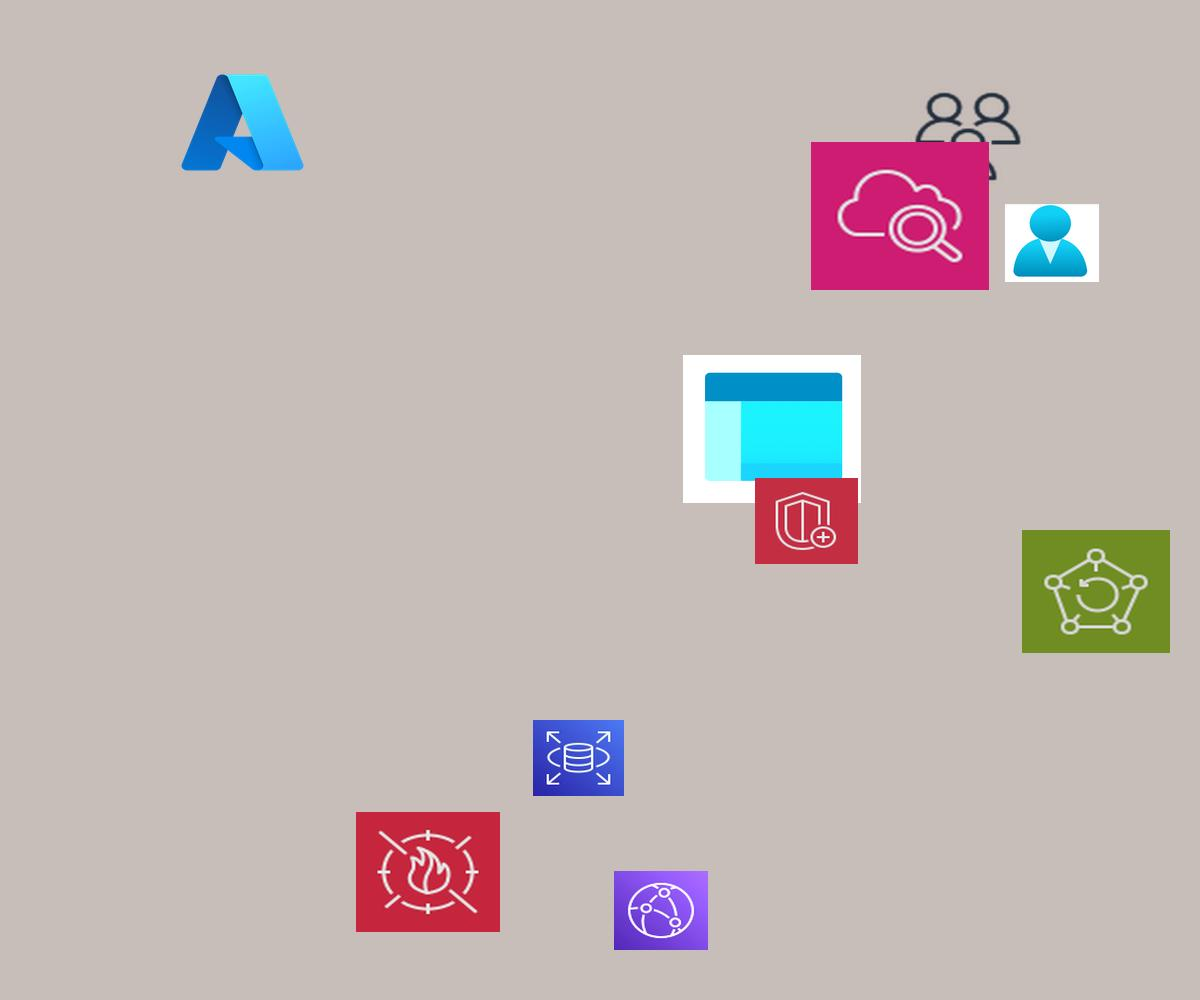AWS-Backup: (1022, 530, 1170, 653)
AWS-CloudFront: (614, 871, 708, 950)
AWS-CloudWatch: (811, 142, 989, 290)
AWS-RDS: (533, 720, 624, 796)
AWS-Res_Users: (911, 89, 1025, 184)
AWS-Shield: (755, 478, 858, 564)
AWS-WAF: (356, 812, 500, 932)
Azure_management-portal: (683, 355, 861, 503)
Azure_services: (176, 67, 309, 178)
Azure_users: (1005, 204, 1099, 282)
